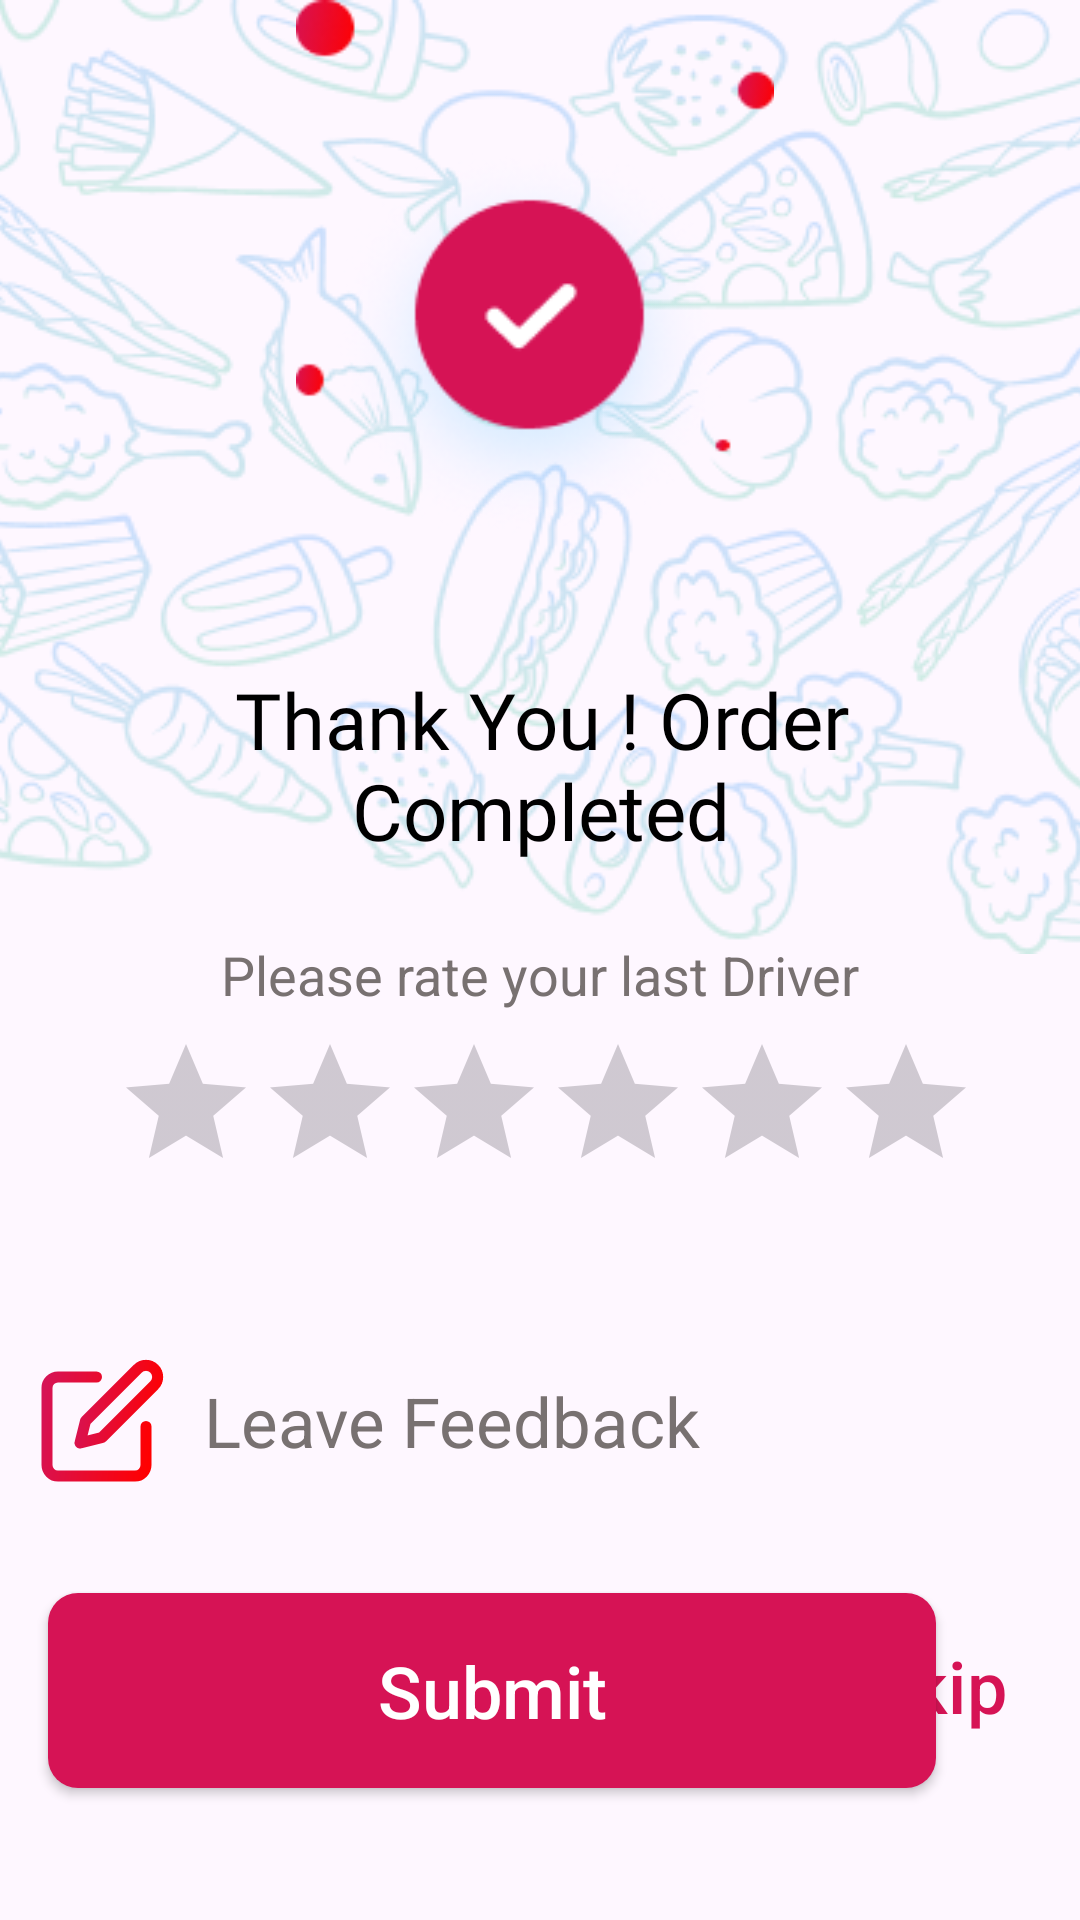

Icon bounding boxes for this 1080 × 1920 phone screenshot, format (x1, y1, x2, y2):
edit: (41, 1359, 164, 1482)
